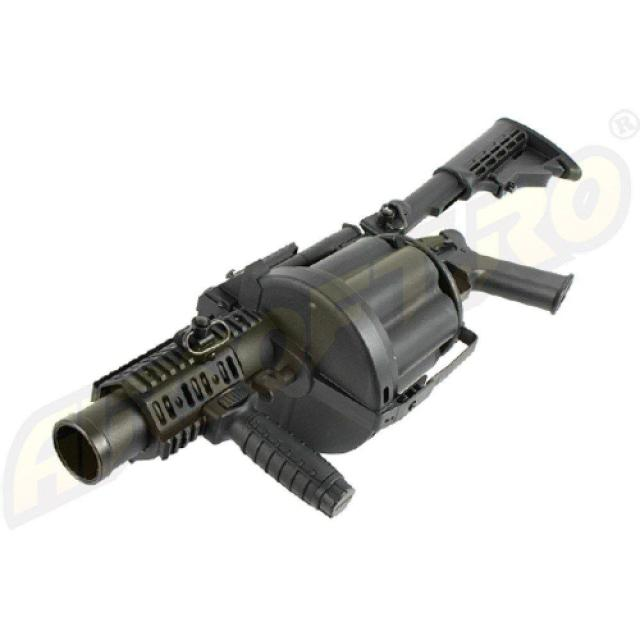weapon: (43, 110, 587, 524)
